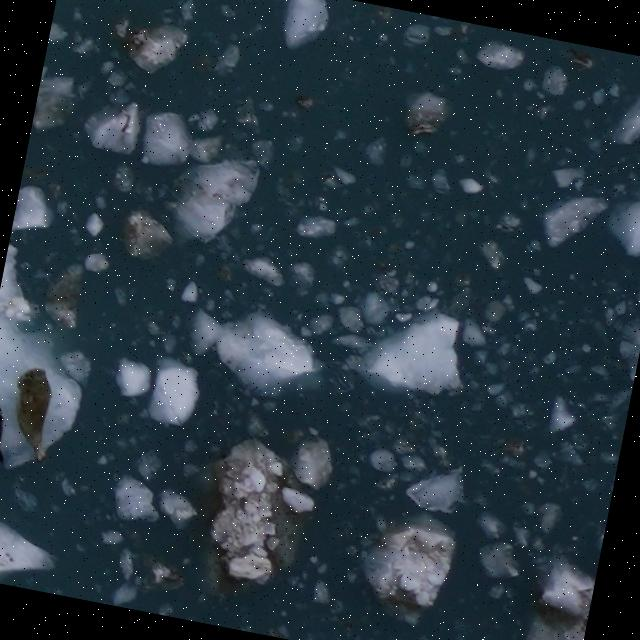seal: (0, 362, 65, 466), (0, 394, 18, 467)
